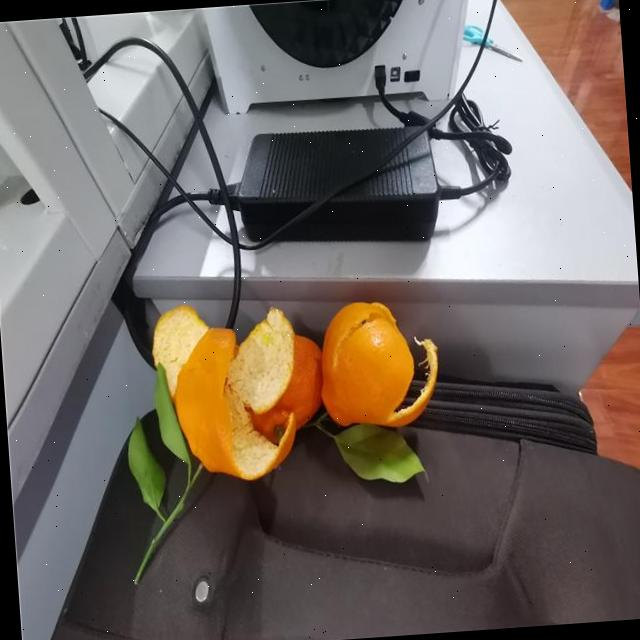orange-peel: (314, 293, 442, 432)
